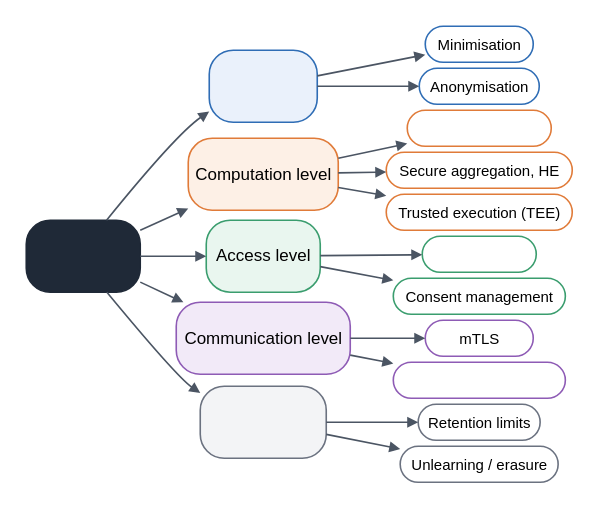
This 600x510 diagram has some shape labels left out. The shapes that lost their labels are listed below. From the top down, each one's box as (x1, y1, x2, y2) in pixels, then its label:
(208, 49, 317, 122): Data level
(406, 109, 551, 146): Differential privacy
(25, 219, 140, 292): Privacy preservation
(421, 235, 536, 272): RBAC / ABAC
(392, 361, 566, 398): Authenticated devices
(199, 385, 326, 458): Lifecycle level
